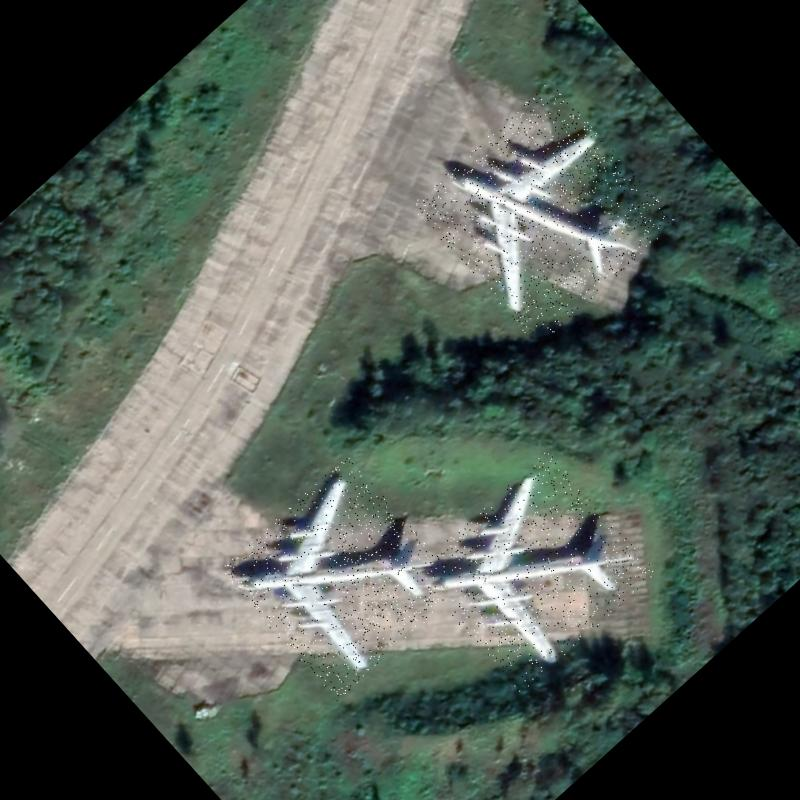A17: (410, 80, 677, 346), (218, 454, 464, 702), (412, 450, 657, 694)
